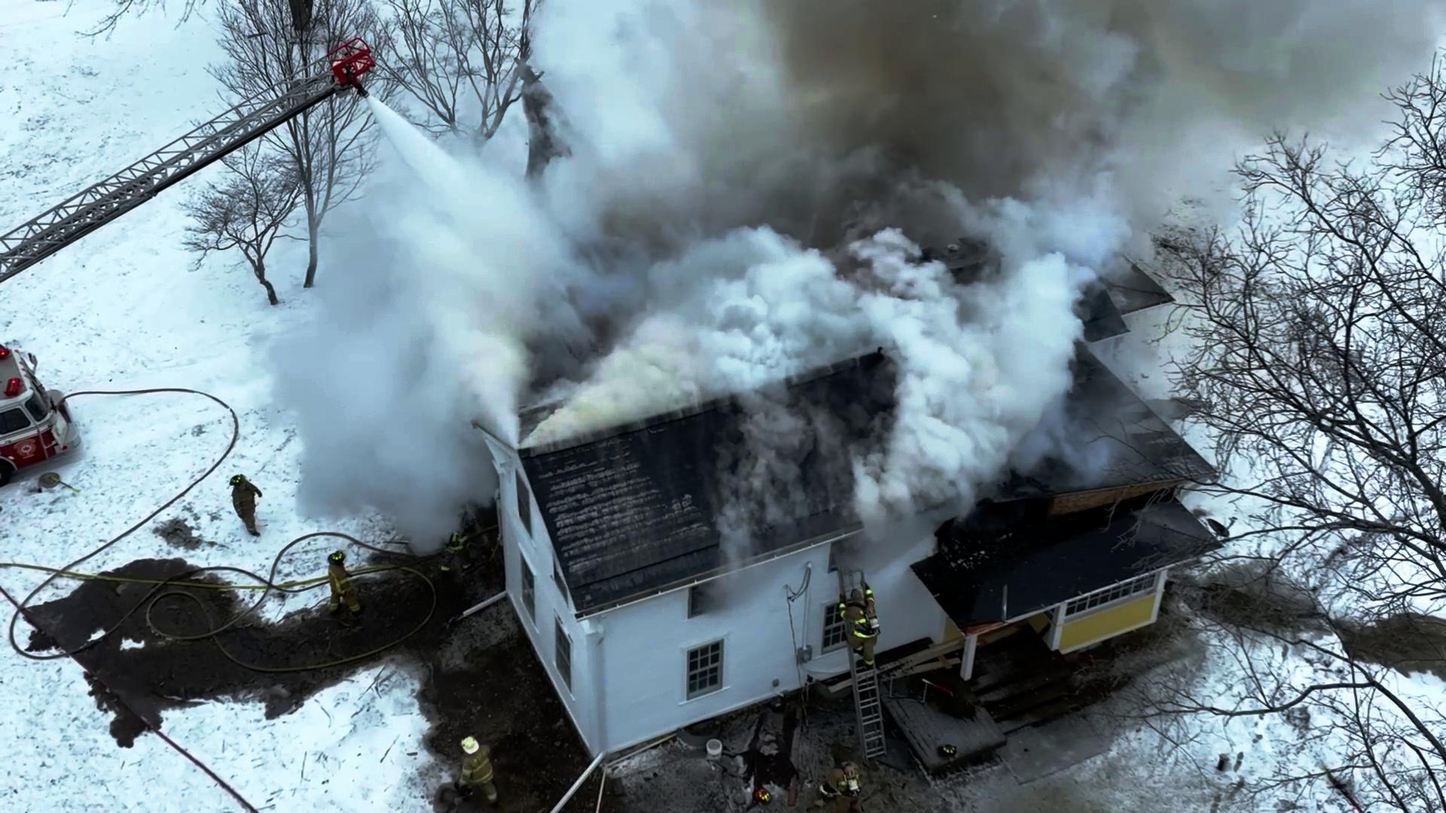smoke: (639, 0, 1273, 178), (563, 209, 1020, 401)
